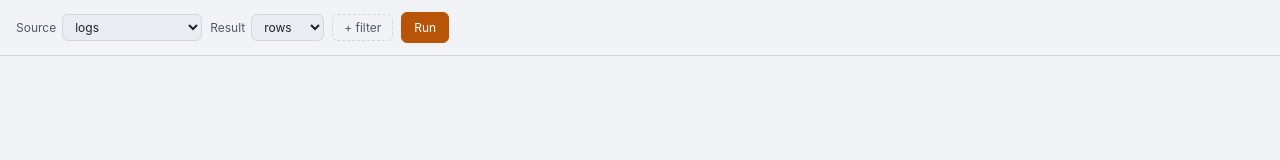
Test case: QueryView › selects profile summaries and renders their generic rows envelope
The image size is (1280, 160).
Select "profile summaries" in the dropdown labelled "Source" at (132, 28), box [62,14,202,41]
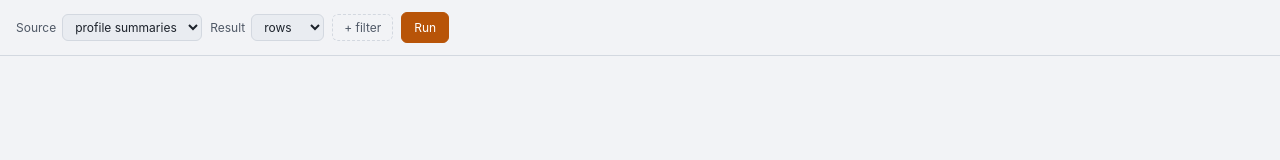
Click the button "Run" at (425, 28), box [401,12,449,43]
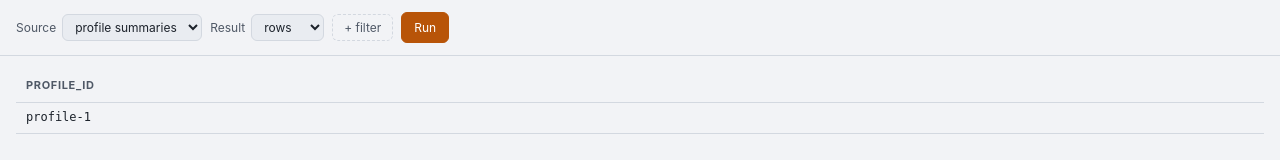
Now the text "profile-1" is shown, box [26,110,91,124]
